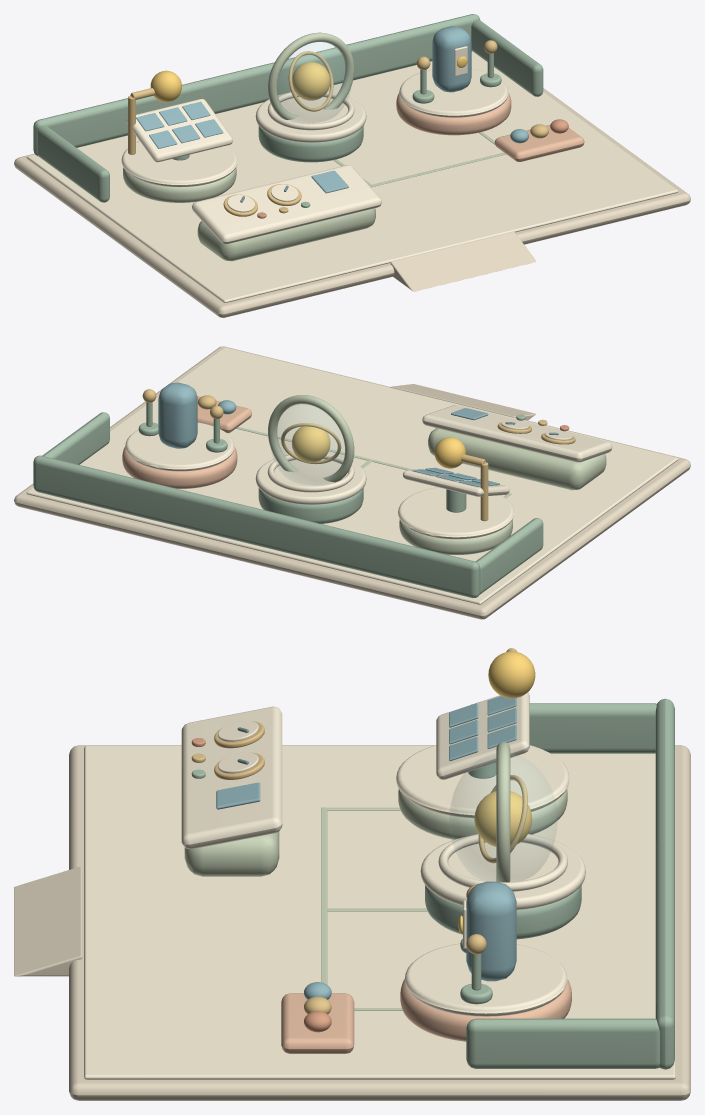
Rendered from energy_research.glb.
The picture shows the model from 3 angles, top to bottom: view 1: azimuth 30°, elevation 25°; view 2: azimuth 150°, elevation 25°; view 3: azimuth 270°, elevation 25°; orthographic projection. The views are drawn at different scales.
Visible parts, largest first — view 1: Research | inset open floor, Research | back low wall, Research | rounded foundation, Console | sloped ivory instrument panel, Chamber | clear PBR capsule, Research | lip-free 2D entrance, Console | low sage cabinet, Solar sampler | cream top, Stone sampler | cream isolation pad, Chamber | cream lower rim, Research | side return, Solar sampler | rounded collector (+12 smaller); view 2: Research | inset open floor, Research | back low wall, Research | rounded foundation, Chamber | clear PBR capsule, Console | low sage cabinet, Solar sampler | cream top, Console | sloped ivory instrument panel, Chamber | cream lower rim, Stone sampler | cream isolation pad, Stone sampler | compact rounded specimen, Research | side return, Chamber | upright outer ring (+13 smaller); view 3: Research | inset open floor, Research | rounded foundation, Console | sloped ivory instrument panel, Research | side return.001, Chamber | clear PBR capsule, Stone sampler | cream isolation pad, Research | back low wall, Research | lip-free 2D entrance, Solar sampler | cream top, Research | side return, Chamber | cream lower rim, Stone sampler | compact rounded specimen (+13 smaller).
Boxes of the visible parts, x1,y1,x2,y2 form: Research | inset open floor: (26,51,678,302); Research | back low wall: (33,14,479,156); Research | rounded foundation: (14,88,690,317); Console | sloped ivory instrument panel: (192,165,381,244); Chamber | clear PBR capsule: (277,42,351,122); Research | lip-free 2D entrance: (390,231,536,291); Console | low sage cabinet: (197,208,375,261); Solar sampler | cream top: (121,141,237,187); Stone sampler | cream isolation pad: (399,69,508,117); Chamber | cream lower rim: (255,93,366,142); Research | side return: (37,125,109,202); Solar sampler | rounded collector: (126,99,232,162); Research | inset open floor: (26,347,678,604); Research | back low wall: (33,455,480,598); Research | rounded foundation: (14,346,690,619); Chamber | clear PBR capsule: (271,404,344,484); Console | low sage cabinet: (428,428,606,490); Solar sampler | cream top: (398,487,514,539); Console | sloped ivory instrument panel: (422,405,612,462); Chamber | cream lower rim: (255,455,366,504); Stone sampler | cream isolation pad: (125,422,234,471); Stone sampler | compact rounded specimen: (158,382,197,448); Research | side return: (475,518,543,594); Chamber | upright outer ring: (268,395,354,482); Research | inset open floor: (84,746,675,1079); Research | rounded foundation: (69,745,690,1100); Console | sloped ivory instrument panel: (181,706,282,849); Research | side return.001: (466,1018,659,1068); Chamber | clear PBR capsule: (449,754,556,881); Stone sampler | cream isolation pad: (404,943,567,1016); Research | back low wall: (655,698,674,1069); Research | lip-free 2D entrance: (14,866,82,976); Solar sampler | cream top: (396,745,569,818); Research | side return: (471,703,656,753); Chamber | cream lower rim: (420,836,585,909); Stone sampler | compact rounded specimen: (466,881,516,981).
Size of the model in its own units: 7.6 by 1.89 by 6.31.
